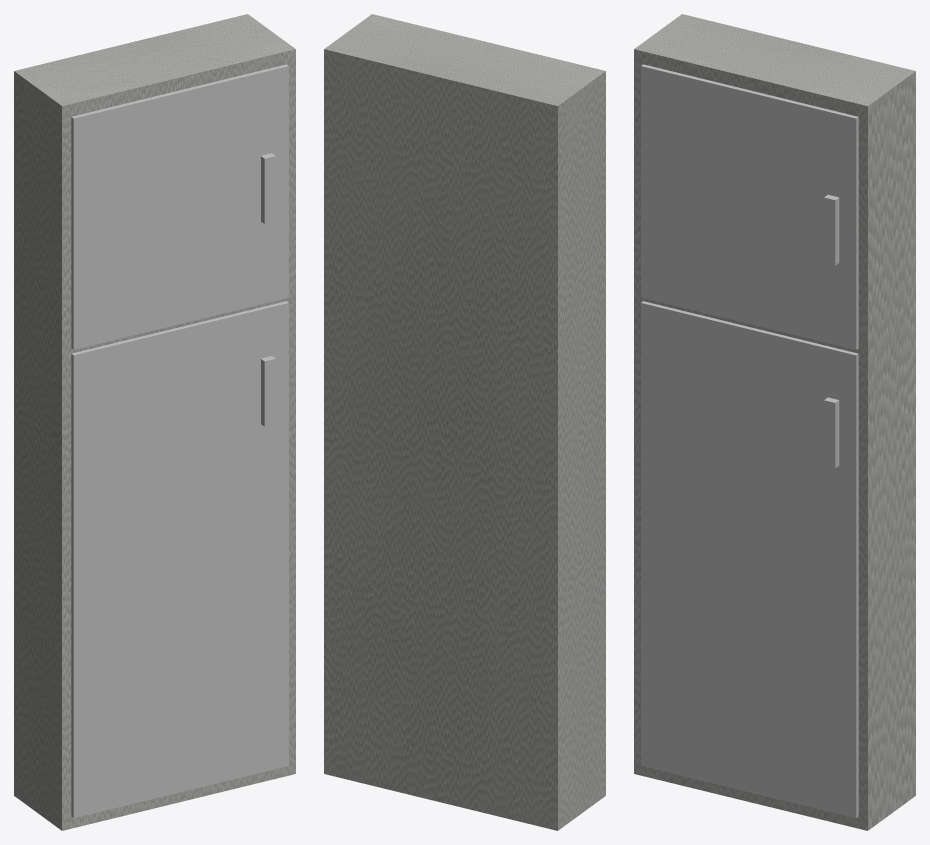
File: figro.fbx
3 views of the same model, side by side, from view 1: azimuth 30°, elevation 25°; view 2: azimuth 150°, elevation 25°; view 3: azimuth 330°, elevation 25° (orthographic).
Parts seen in each view (by area): view 1: pasted__pCube662, pasted__pCube649, pasted__pCube650, pasted__pCube651, pasted__pCube663; view 2: pasted__pCube649; view 3: pasted__pCube662, pasted__pCube649, pasted__pCube650, pasted__pCube651, pasted__pCube663.
Boxes of the visible parts, x1=… form: pasted__pCube662: x1=71, y1=301, x2=288, y2=818; pasted__pCube649: x1=14, y1=14, x2=295, y2=830; pasted__pCube650: x1=71, y1=64, x2=288, y2=349; pasted__pCube651: x1=261, y1=153, x2=275, y2=223; pasted__pCube663: x1=261, y1=356, x2=275, y2=426; pasted__pCube649: x1=324, y1=14, x2=605, y2=830; pasted__pCube662: x1=641, y1=301, x2=858, y2=818; pasted__pCube649: x1=634, y1=14, x2=915, y2=830; pasted__pCube650: x1=641, y1=64, x2=858, y2=349; pasted__pCube651: x1=824, y1=194, x2=839, y2=265; pasted__pCube663: x1=824, y1=397, x2=839, y2=468.
Bounding box in the file's own units: 2.72 × 8.06 × 1.1.
